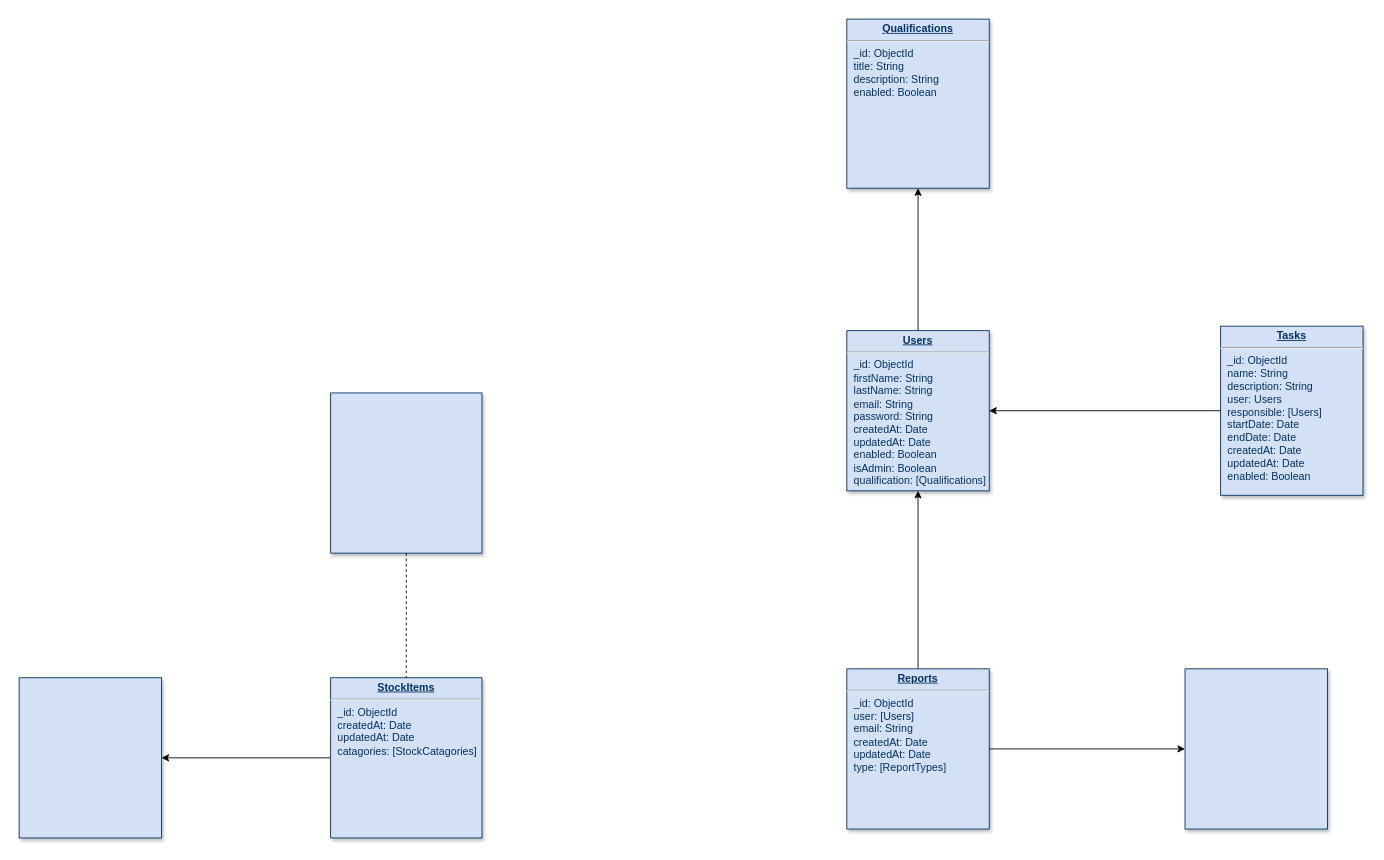
Some shapes in this 1384 by 860 pixel diagram are drawn without their labels. The centre of each missing label's shape, as x and y in pixels:
"ReportTypes _id: ObjectId name: String description: String" belongs at (1257,749).
"StockCatagories _id: ObjectId name: String createdAt: Date updatedAt: Date" belongs at (91,758).
"Stocks _id: ObjectId name: String createdAt: Date updatedAt: Date tags: [String]" belongs at (406,473).
